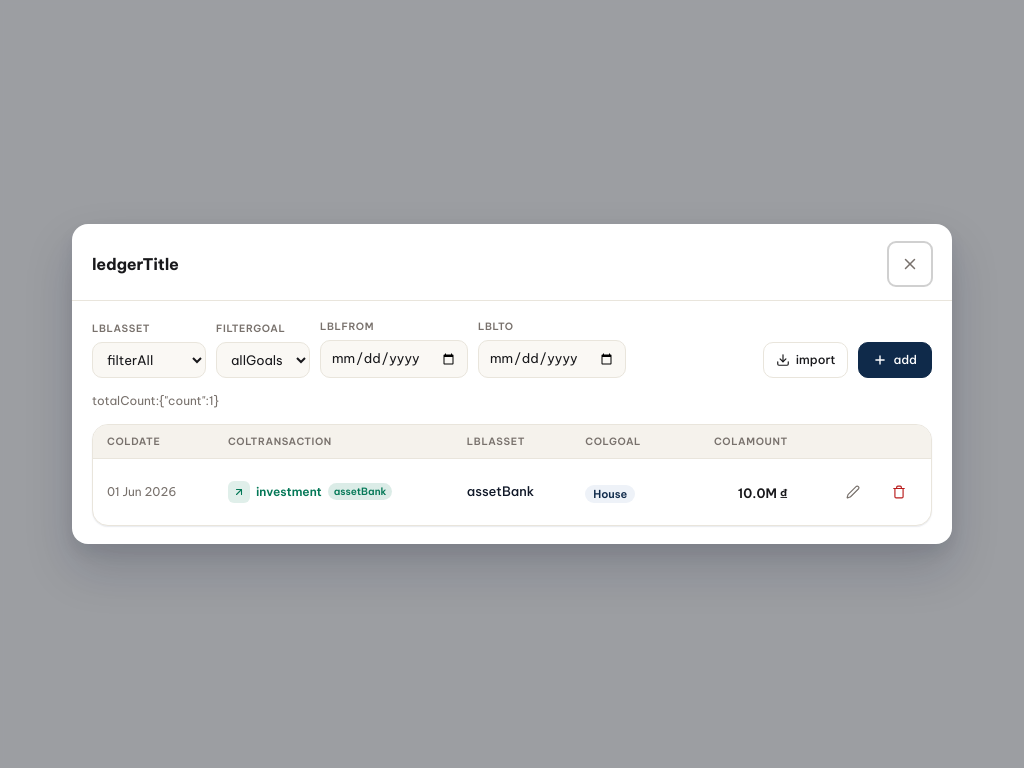
Test: TransactionLedgerSheet — deleting a deposit a recurring saving feeds › stays quiet when the savings point at other deposits
What coordinates should you click on to do the following:
click the button with test id "tx-ledger-delete"
I would click on:
 (899, 492)
Its box is [877,470,921,514].
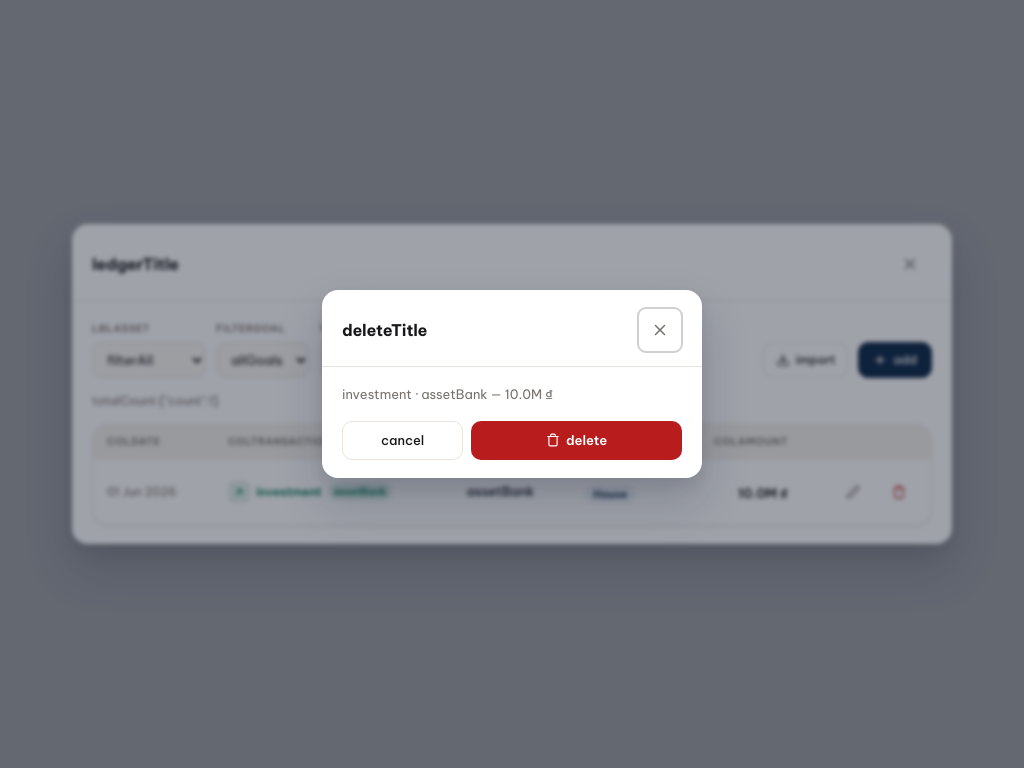
Check: the button with test id "tx-ledger-delete-confirm" is shown, box [471,420,682,460]
